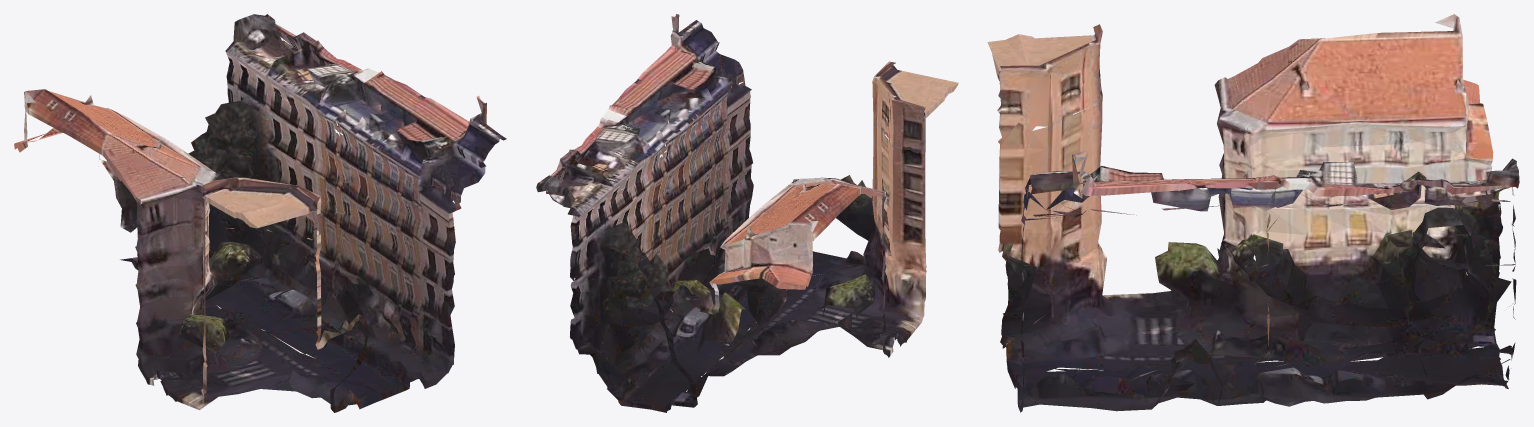
3 renders of one model, left to right at view 1: azimuth 30°, elevation 25°; view 2: azimuth 150°, elevation 25°; view 3: azimuth 270°, elevation 25°, orthographic. The views are drawn at different scales.
Parts seen in each view (by area): view 1: Mesh_0; view 2: Mesh_0; view 3: Mesh_0.
Boxes of the visible parts, <box> form: Mesh_0: <box>14,14,506,412</box>; Mesh_0: <box>536,14,958,412</box>; Mesh_0: <box>987,14,1519,412</box>.
Bounding box in the file's own units: 33.31 × 26.75 × 41.33.
1 material, 1 textured.
